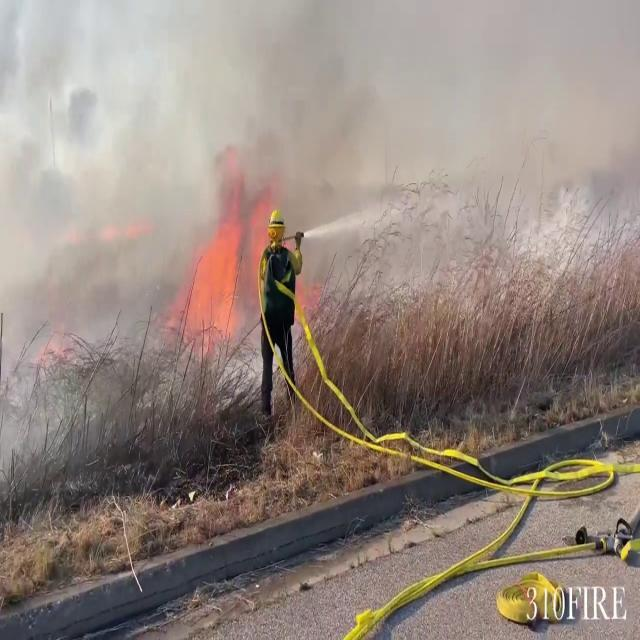Fire: (177, 182, 245, 352)
Smoke: (5, 1, 640, 336), (0, 0, 206, 456)
